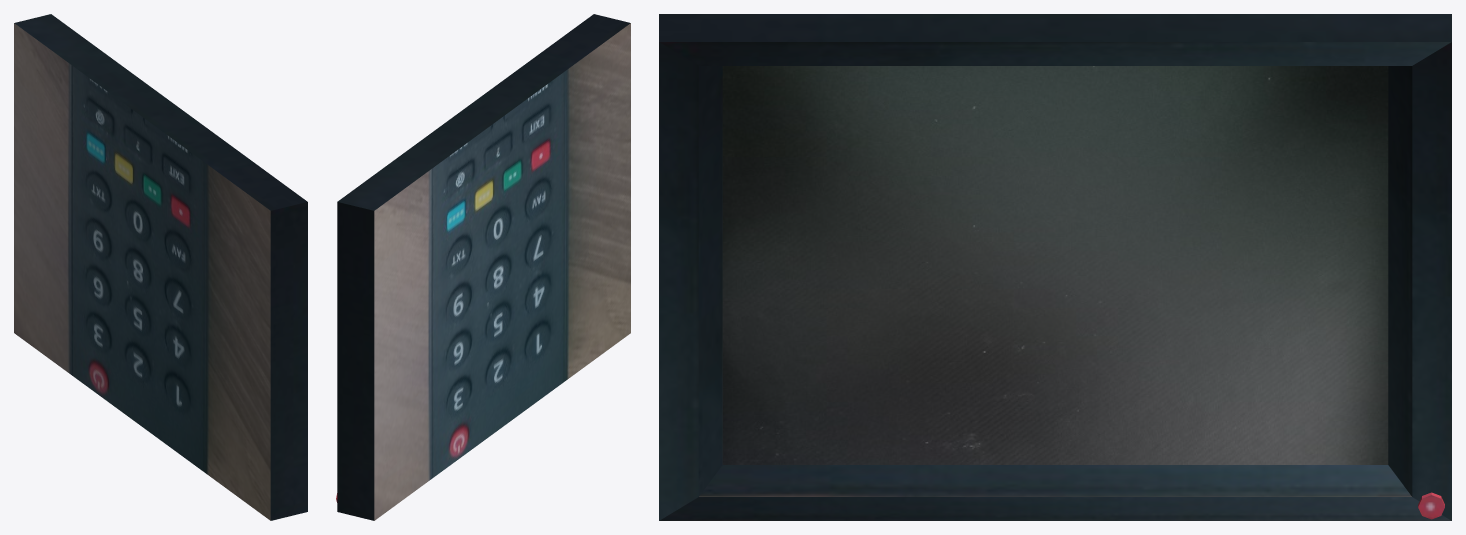
The model's file is Televizyon.fbx.
The picture shows the model from 3 angles, left to right: view 1: azimuth 30°, elevation 25°; view 2: azimuth 150°, elevation 25°; view 3: azimuth 270°, elevation 25°; orthographic projection. The views are drawn at different scales.
Parts seen in each view (by area): view 1: Cube; view 2: Cube; view 3: Cube.
Part boxes in pixels (box(x1,y1,x2,y2)): Cube: box(14, 14, 307, 520); Cube: box(336, 14, 630, 520); Cube: box(659, 14, 1451, 520).
Size of the model in its own units: 54.76 by 400 by 600.
